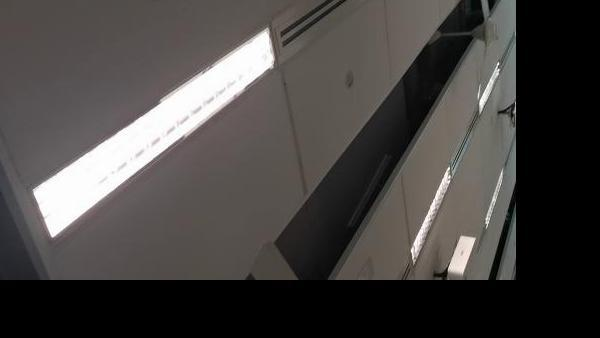light_on: (20, 17, 289, 254), (399, 156, 455, 266), (467, 57, 511, 117), (478, 162, 511, 232)
